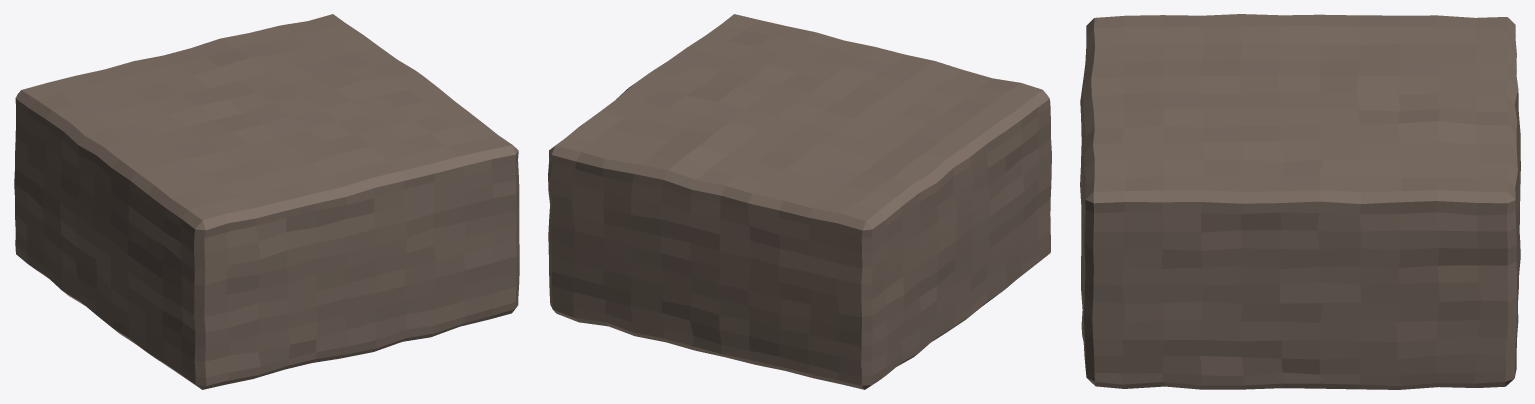
File: toggleTile.fbx
3 views of the same model, side by side, from view 1: azimuth 30°, elevation 25°; view 2: azimuth 150°, elevation 25°; view 3: azimuth 270°, elevation 25° (orthographic). The views are drawn at different scales.
Parts seen in each view (by area): view 1: ToggleTile; view 2: ToggleTile; view 3: ToggleTile.
Boxes of the visible parts, x1,y1,x2,y2 form: ToggleTile: [14, 14, 519, 389]; ToggleTile: [548, 14, 1051, 389]; ToggleTile: [1080, 14, 1520, 389].
Size of the model in its own units: 1.03 by 1.03 by 0.5341.
